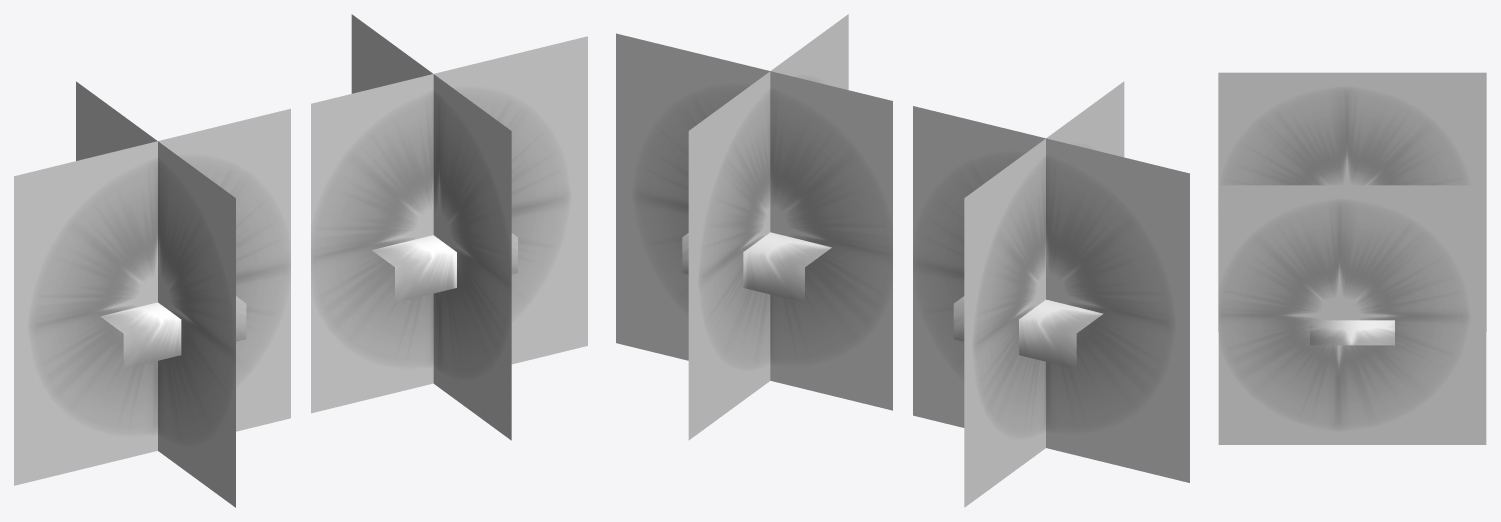
Rendered from CityPoliceCar_FlashingLights.fbx.
3 views of the same model, side by side, from view 1: azimuth 30°, elevation 25°; view 2: azimuth 150°, elevation 25°; view 3: azimuth 270°, elevation 25° (orthographic). The views are drawn at different scales.
Visible parts, largest first — view 1: BlueLight, RedLight; view 2: BlueLight, RedLight; view 3: BlueLight, RedLight.
Part boxes in pixels (x1=…): BlueLight: x1=311, y1=14, x2=587, y2=440; RedLight: x1=14, y1=81, x2=290, y2=507; BlueLight: x1=616, y1=14, x2=892, y2=440; RedLight: x1=913, y1=81, x2=1189, y2=507; BlueLight: x1=1218, y1=185, x2=1486, y2=444; RedLight: x1=1218, y1=72, x2=1486, y2=331.
Bounding box in the file's own units: 1.76 × 0.9052 × 0.8476.
1 material, 1 textured.
